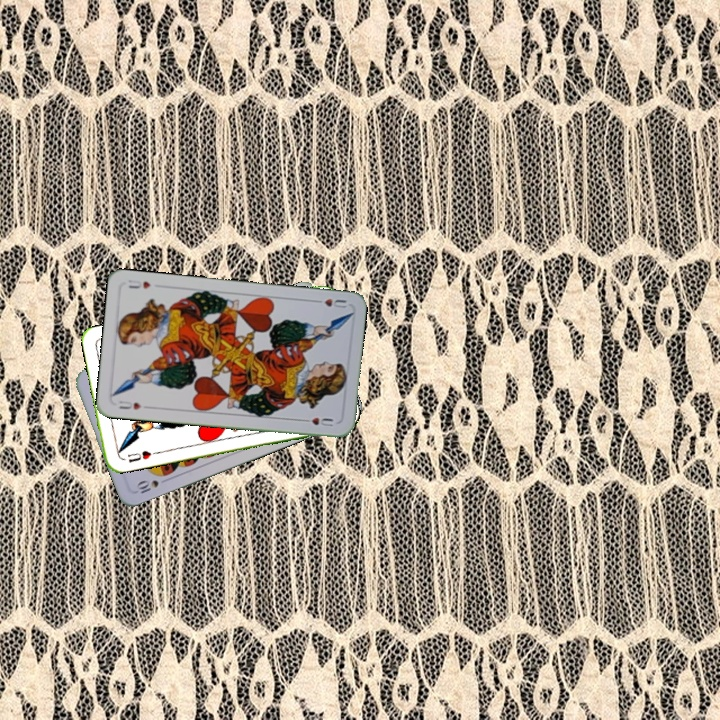HU: (310, 294, 349, 311), (124, 447, 154, 465), (115, 397, 144, 412)
S10: (132, 474, 171, 496)
